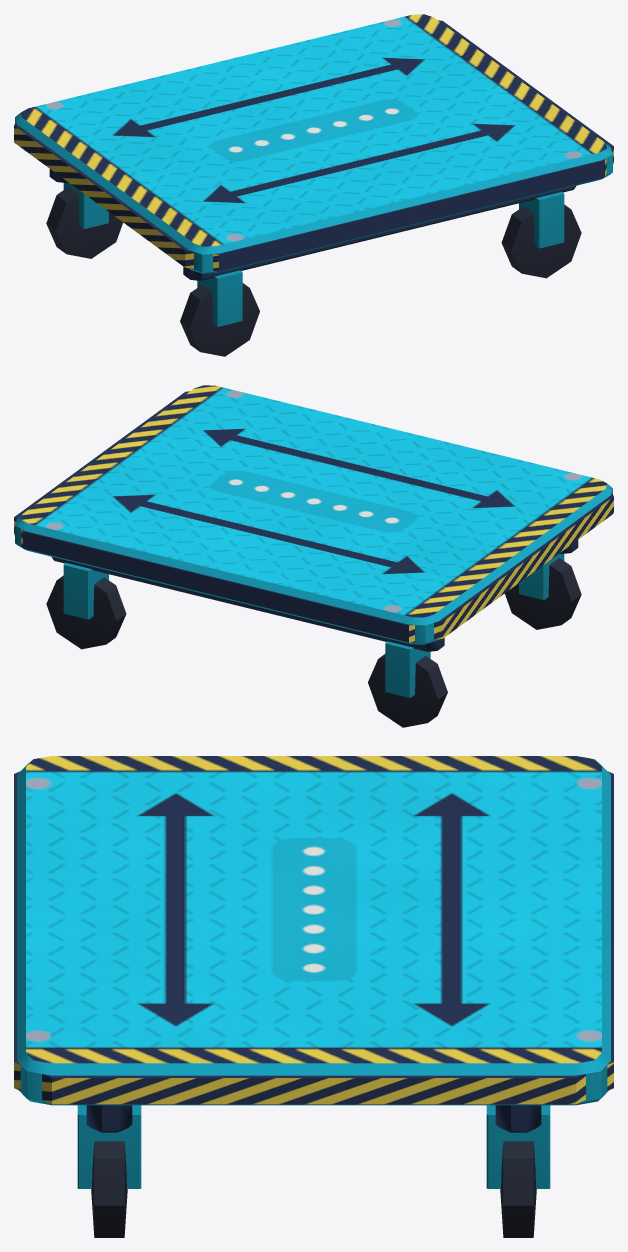
The model's file is reception_mail_cart_lod1.glb.
The picture shows the model from 3 angles, top to bottom: view 1: azimuth 30°, elevation 25°; view 2: azimuth 150°, elevation 25°; view 3: azimuth 270°, elevation 25°; orthographic projection. The views are drawn at different scales.
Parts seen in each view (by area): view 1: reception_mail_cart_LOD1; view 2: reception_mail_cart_LOD1; view 3: reception_mail_cart_LOD1.
Part boxes in pixels (<box>): reception_mail_cart_LOD1: <box>14,14,613,356</box>; reception_mail_cart_LOD1: <box>14,385,613,727</box>; reception_mail_cart_LOD1: <box>14,756,613,1237</box>.
Size of the model in its own units: 10 by 3 by 7.92.
Materials: 1 (1 with a texture image).
